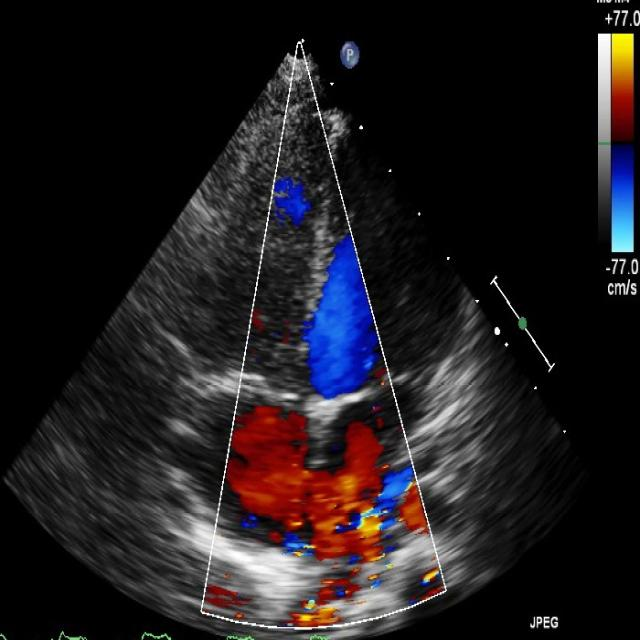ASDType2: (225, 394, 430, 622)
